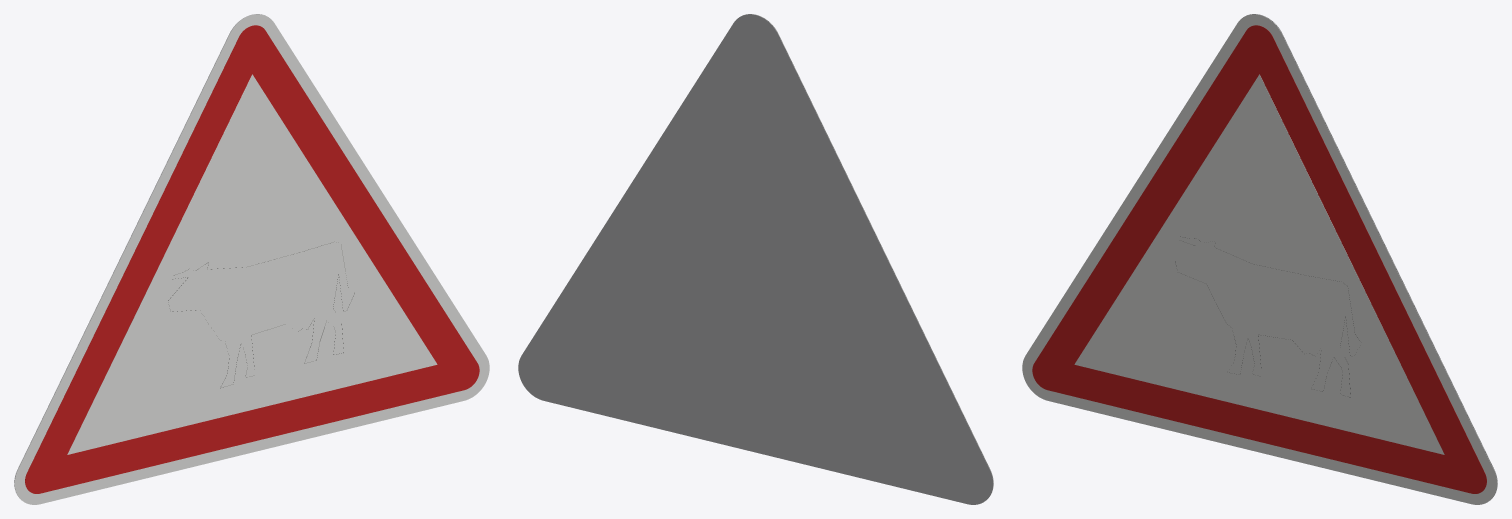
The picture shows the model from 3 angles, left to right: view 1: azimuth 30°, elevation 25°; view 2: azimuth 150°, elevation 25°; view 3: azimuth 330°, elevation 25°; orthographic projection.
Parts seen in each view (by area): view 1: A15a1_p02, A15a1_p01, A15a1_p00, A15a1_dos; view 2: A15a1_dos, A15a1_p00; view 3: A15a1_p02, A15a1_p01, A15a1_p00, A15a1_dos.
Boxes of the visible parts, x1,y1,x2,y2 form: A15a1_p02: (67,74,437,454); A15a1_p01: (25,25,479,493); A15a1_p00: (14,14,489,504); A15a1_dos: (14,14,265,500); A15a1_dos: (518,14,993,504); A15a1_p00: (742,14,993,500); A15a1_p02: (1074,74,1444,454); A15a1_p01: (1032,25,1486,493); A15a1_p00: (1022,14,1497,504); A15a1_dos: (1246,14,1497,500).
Size of the model in its own units: 1 by 0.8803 by 0.0035.
